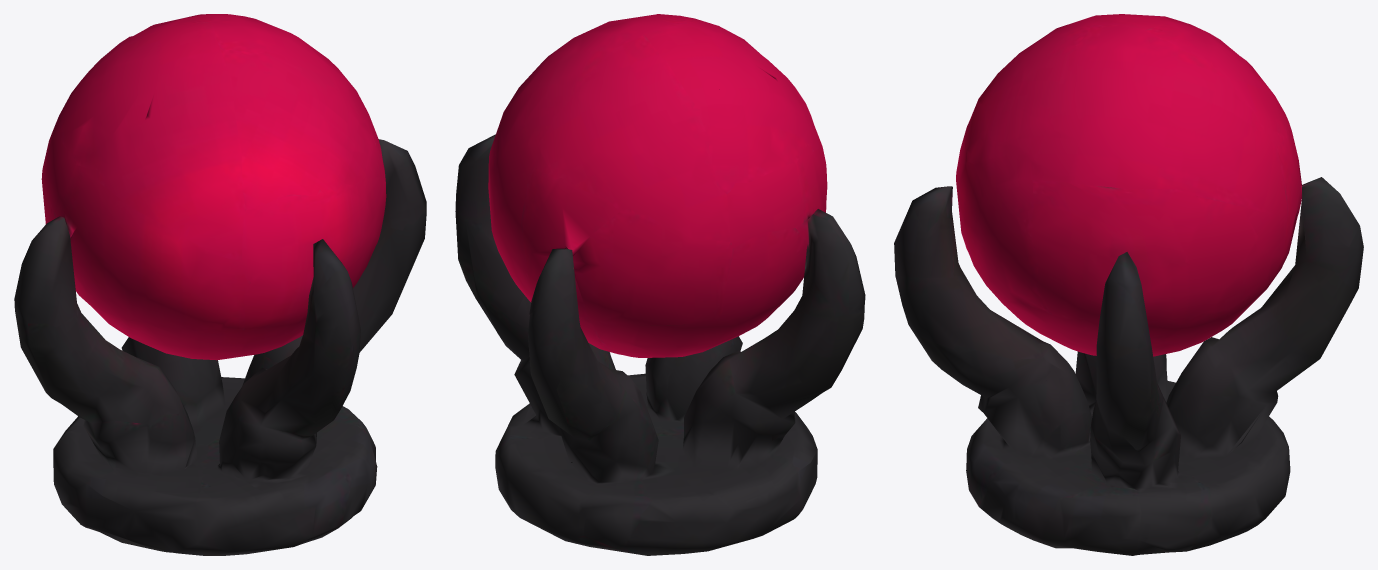
Rendered from ether_orb-CB4YfZ2L.glb.
3 renders of one model, left to right at view 1: azimuth 30°, elevation 25°; view 2: azimuth 150°, elevation 25°; view 3: azimuth 270°, elevation 25°, orthographic.
Parts seen in each view (by area): view 1: tripo_node_57c679d8-f249-499b-a00d-82833c4cce53; view 2: tripo_node_57c679d8-f249-499b-a00d-82833c4cce53; view 3: tripo_node_57c679d8-f249-499b-a00d-82833c4cce53.
Part boxes in pixels (box(x1,y1,x2,y2)): tripo_node_57c679d8-f249-499b-a00d-82833c4cce53: box(14, 14, 426, 555); tripo_node_57c679d8-f249-499b-a00d-82833c4cce53: box(455, 14, 865, 555); tripo_node_57c679d8-f249-499b-a00d-82833c4cce53: box(894, 14, 1363, 555).
Size of the model in its own units: 0.9174 by 1 by 0.911.
Materials: 1 (1 with a texture image).
